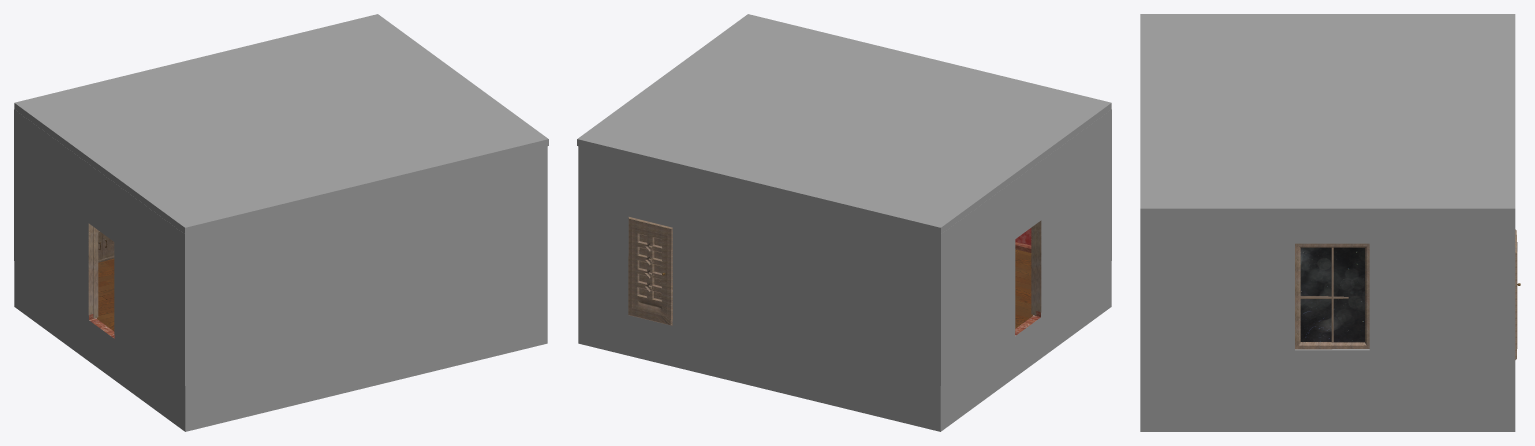
File: dining_room.fbx
3 renders of one model, left to right at view 1: azimuth 30°, elevation 25°; view 2: azimuth 150°, elevation 25°; view 3: azimuth 270°, elevation 25°, orthographic. The views are drawn at different scales.
Parts seen in each view (by area): view 1: walls, ceiling, floor, frame_two1; view 2: walls, ceiling, floor, pCube69, frame_two1; view 3: ceiling, walls, floor, pPlane6, pCube70, pCube69.
Part boxes in pixels (x1,y1,x2,y2): walls: (14, 109, 547, 385); ceiling: (14, 14, 548, 234); floor: (14, 258, 547, 431); frame_two1: (93, 227, 98, 318); walls: (578, 109, 1111, 385); ceiling: (577, 14, 1111, 234); floor: (578, 242, 1111, 431); pCube69: (628, 217, 672, 325); frame_two1: (1031, 224, 1036, 315); ceiling: (1140, 14, 1515, 216); walls: (1140, 216, 1515, 381); floor: (1140, 381, 1515, 431); pPlane6: (1300, 247, 1364, 342); pCube70: (1295, 243, 1369, 349); pCube69: (1515, 229, 1520, 359).
Bounding box in the file's own units: 50.9 × 27.3 × 42.03.
